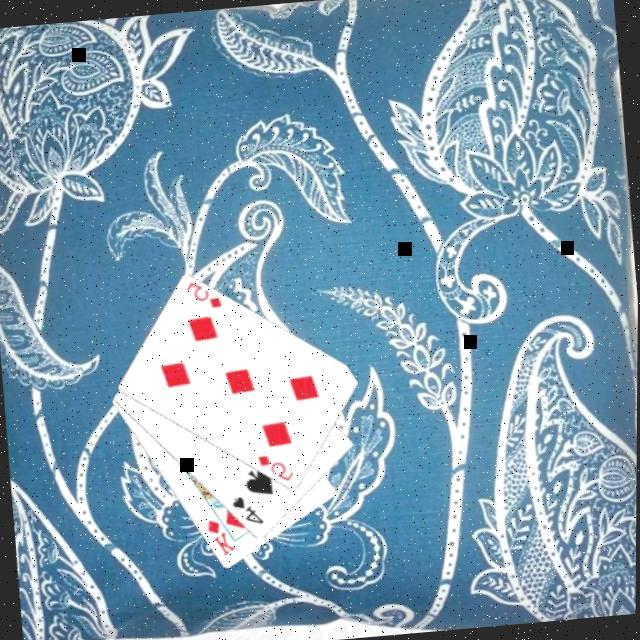4S: (229, 488, 268, 528)
5D: (182, 274, 226, 312), (256, 448, 298, 484)
KD: (203, 512, 240, 558)
